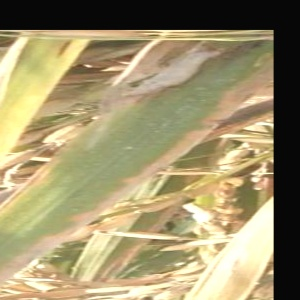Leaf_Blast: (0, 186, 83, 266)
